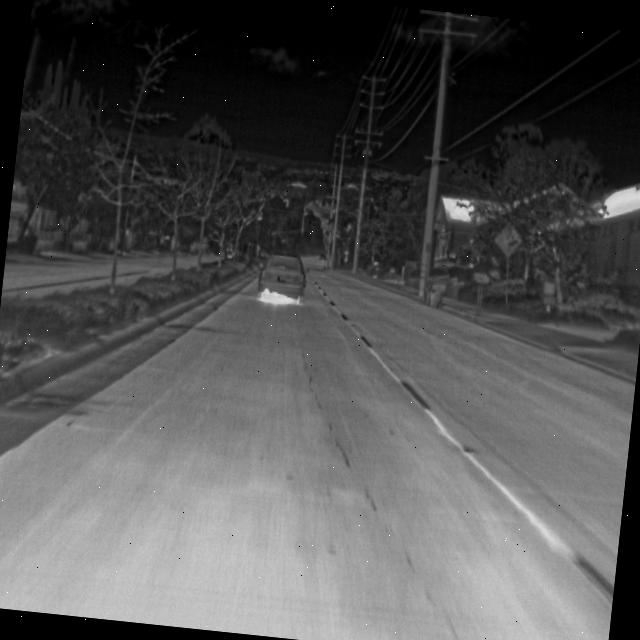Vehicle: (251, 245, 311, 306)
